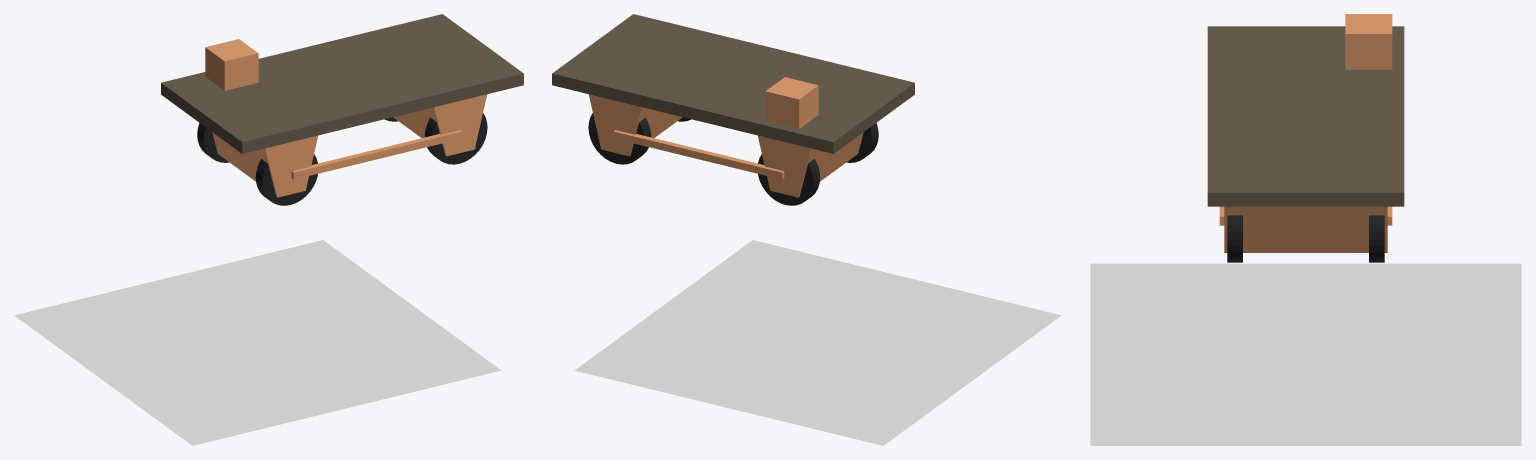
File: flat_car.fbx
3 renders of one model, left to right at view 1: azimuth 30°, elevation 25°; view 2: azimuth 150°, elevation 25°; view 3: azimuth 270°, elevation 25°, orthographic. The views are drawn at different scales.
Parts seen in each view (by area): view 1: Plane, Cube; view 2: Plane, Cube; view 3: Plane, Cube.
Part boxes in pixels (box(x1,y1,x2,y2)): Plane: box(14, 240, 501, 445); Cube: box(161, 14, 523, 205); Plane: box(574, 240, 1061, 445); Cube: box(552, 14, 914, 205); Plane: box(1090, 263, 1521, 445); Cube: box(1207, 14, 1404, 262).
Bounding box in the file's own units: 246 × 169 × 200.
